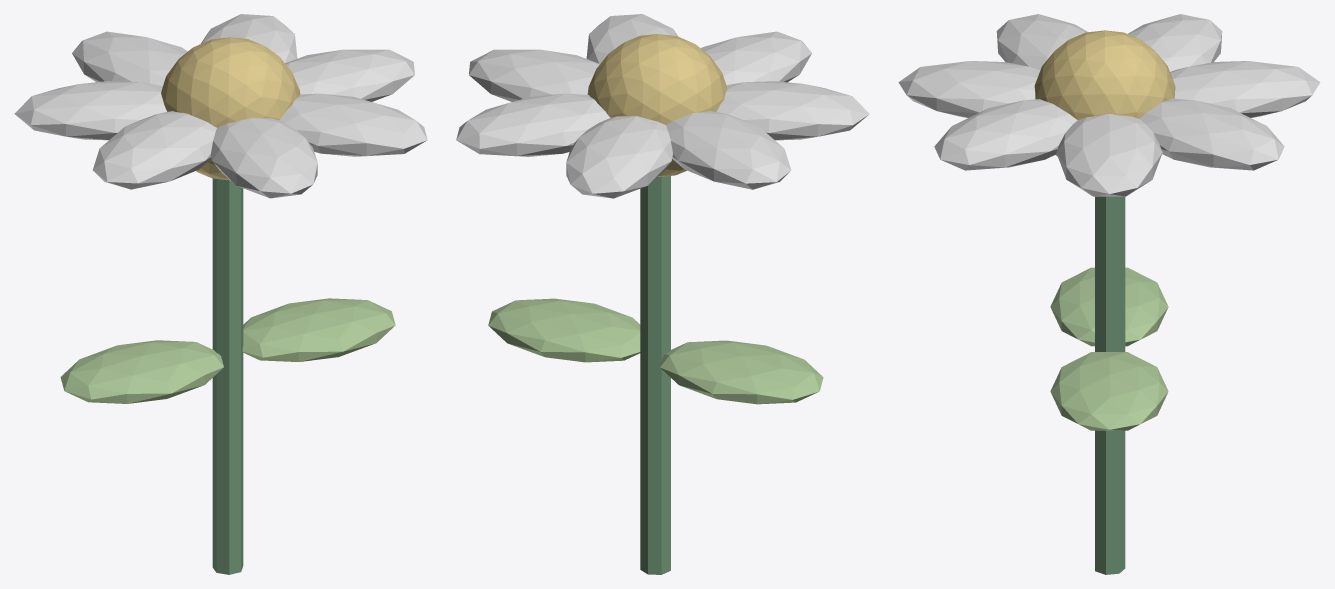
File: daisy.glb
3 views of the same model, side by side, from view 1: azimuth 30°, elevation 25°; view 2: azimuth 150°, elevation 25°; view 3: azimuth 270°, elevation 25° (orthographic).
Parts seen in each view (by area): view 1: Stalk, Pollen, Leaf_-1, Leaf_1, Petal_3, Petal_1, Petal_2, Petal_4, Petal_0, Petal_5, Petal_6; view 2: Stalk, Pollen, Leaf_-1, Leaf_1, Petal_4, Petal_6, Petal_5, Petal_3, Petal_0, Petal_2, Petal_1; view 3: Pollen, Stalk, Leaf_1, Petal_6, Petal_1, Petal_0, Petal_5, Petal_2, Leaf_-1, Petal_4, Petal_3.
Boxes of the visible parts, x1,y1,x2,y2 form: Stalk: (212,178,243,574); Pollen: (161,37,300,180); Leaf_-1: (60,340,223,403); Leaf_1: (242,298,395,361); Petal_3: (92,111,216,189); Petal_1: (279,93,427,156); Petal_2: (211,118,317,198); Petal_4: (14,81,167,140); Petal_0: (285,49,414,101); Petal_5: (72,31,187,86); Petal_6: (201,14,297,63); Stalk: (640,176,670,574); Pollen: (587,34,727,176); Leaf_-1: (660,340,823,404); Leaf_1: (488,298,640,362); Petal_4: (666,111,791,189); Petal_6: (456,93,610,156); Petal_5: (566,116,672,198); Petal_3: (716,81,869,140); Petal_0: (469,49,599,101); Petal_2: (701,31,811,85); Petal_1: (586,14,678,63); Pollen: (1034,30,1175,156); Stalk: (1095,196,1125,574); Leaf_1: (1050,352,1168,430); Petal_6: (1140,98,1284,170); Petal_1: (934,99,1077,170); Petal_0: (1056,114,1162,196); Petal_5: (1170,61,1320,117); Petal_2: (898,61,1040,117); Leaf_-1: (1050,267,1168,346); Petal_4: (1128,14,1222,71); Petal_3: (996,14,1087,69).
Size of the model in its own units: 0.9049 by 1.29 by 0.9281.
